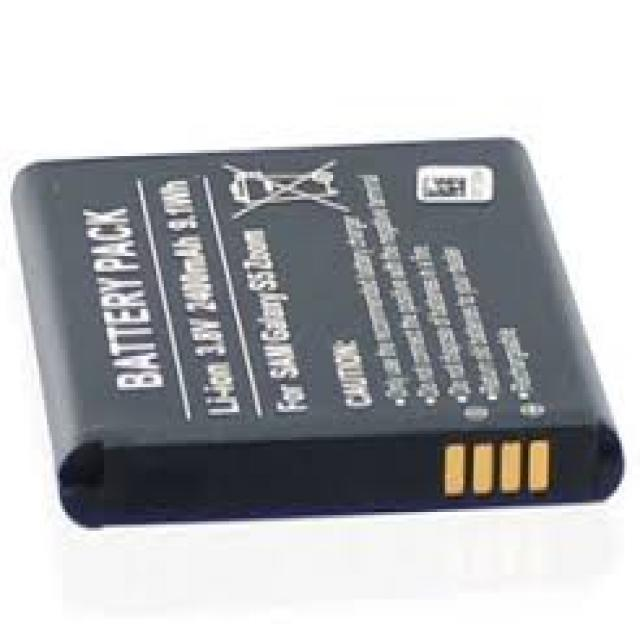non-organic waste: (14, 137, 630, 532)
